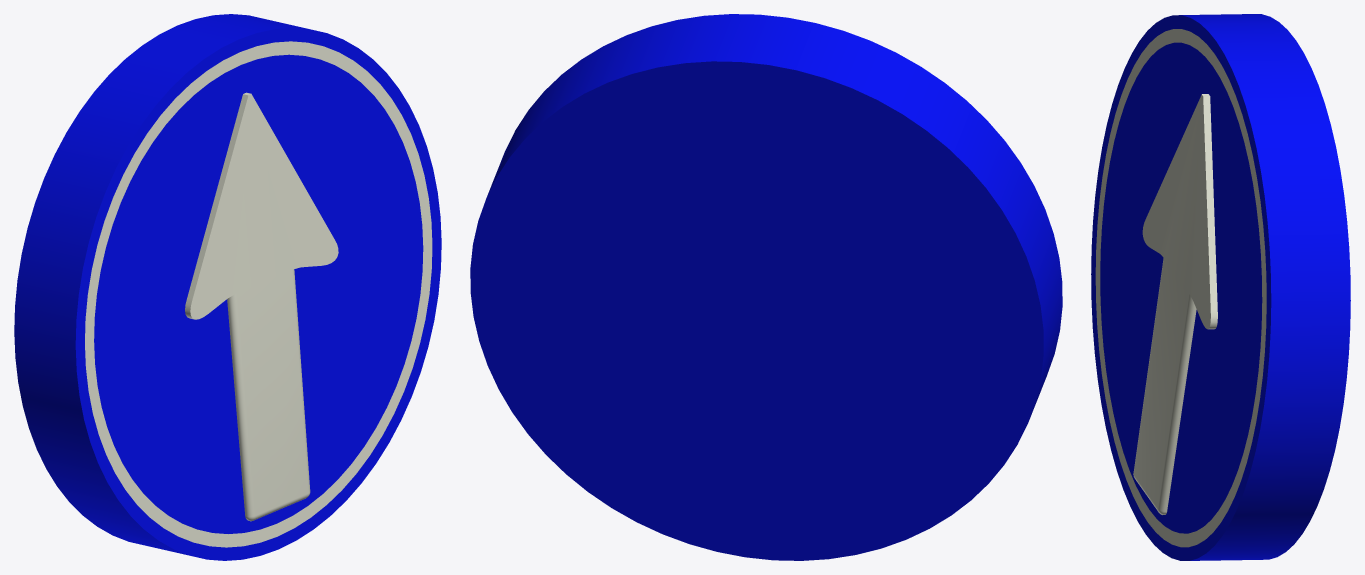
File: arrow_up_and_down.glb
3 views of the same model, side by side, from view 1: azimuth 30°, elevation 25°; view 2: azimuth 150°, elevation 25°; view 3: azimuth 270°, elevation 25° (orthographic). The views are drawn at different scales.
Visible parts, largest first — view 1: Cylinder.001_0, Cube.021_1; view 2: Cylinder.001_0; view 3: Cylinder.001_0, Cube.021_1.
Part boxes in pixels (x1,y1,x2,y2): Cylinder.001_0: (14,14,441,560); Cube.021_1: (185,92,338,521); Cylinder.001_0: (470,14,1062,560); Cylinder.001_0: (1091,14,1350,560); Cube.021_1: (1133,94,1217,514).
Size of the model in its own units: 2.16 by 2.19 by 1.03.
